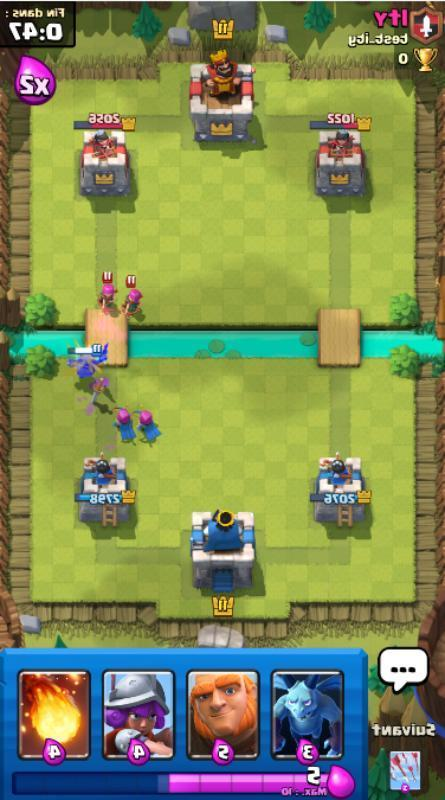enemy_archers: (119, 275, 147, 317), (94, 272, 119, 310)
player_archers: (108, 402, 138, 444), (134, 403, 164, 444)
player_mini_pekka: (63, 340, 117, 377)
